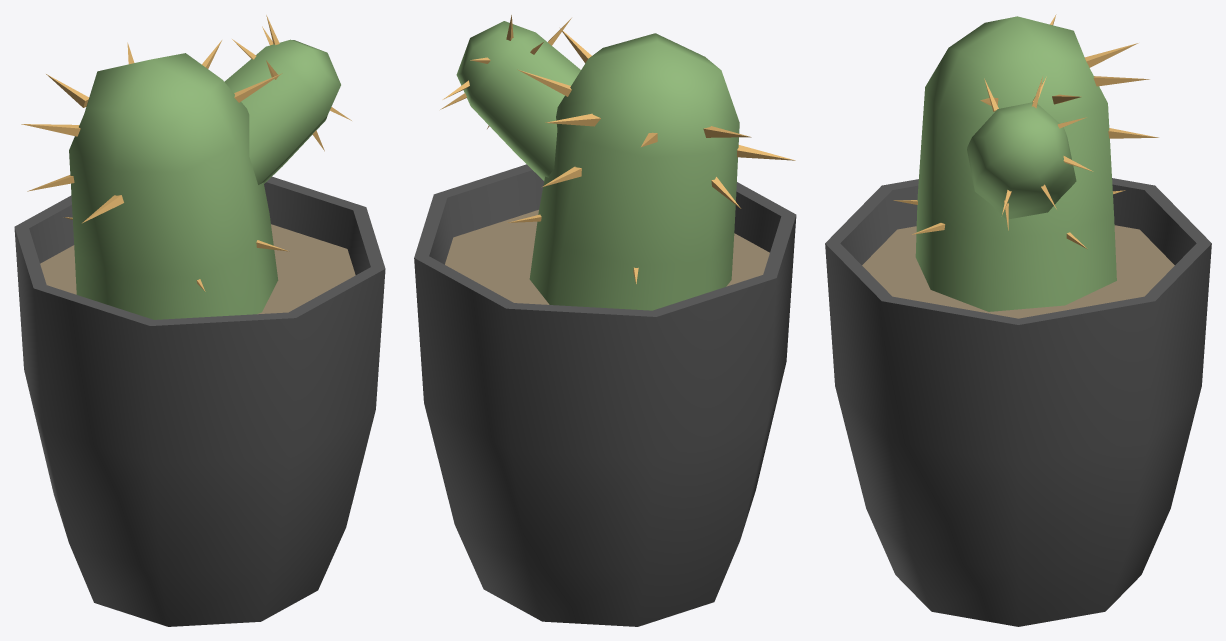
Rendered from houseplant_2.glb.
3 views of the same model, side by side, from view 1: azimuth 30°, elevation 25°; view 2: azimuth 150°, elevation 25°; view 3: azimuth 270°, elevation 25° (orthographic). The views are drawn at different scales.
Parts seen in each view (by area): view 1: Houseplant_2; view 2: Houseplant_2; view 3: Houseplant_2.
Boxes of the visible parts, x1=… form: Houseplant_2: x1=14, y1=15, x2=385, y2=626; Houseplant_2: x1=414, y1=15, x2=796, y2=626; Houseplant_2: x1=825, y1=14, x2=1211, y2=626.
Size of the model in its own units: 0.2505 by 0.3849 by 0.2505.
